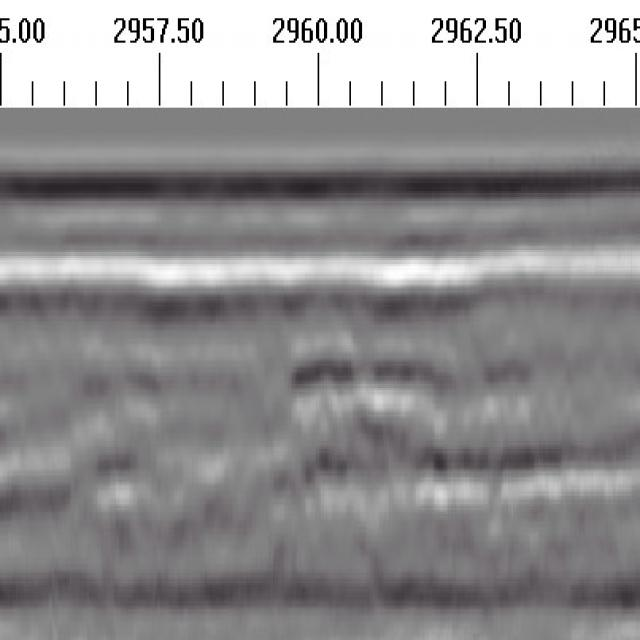loose: (277, 330, 568, 511)
